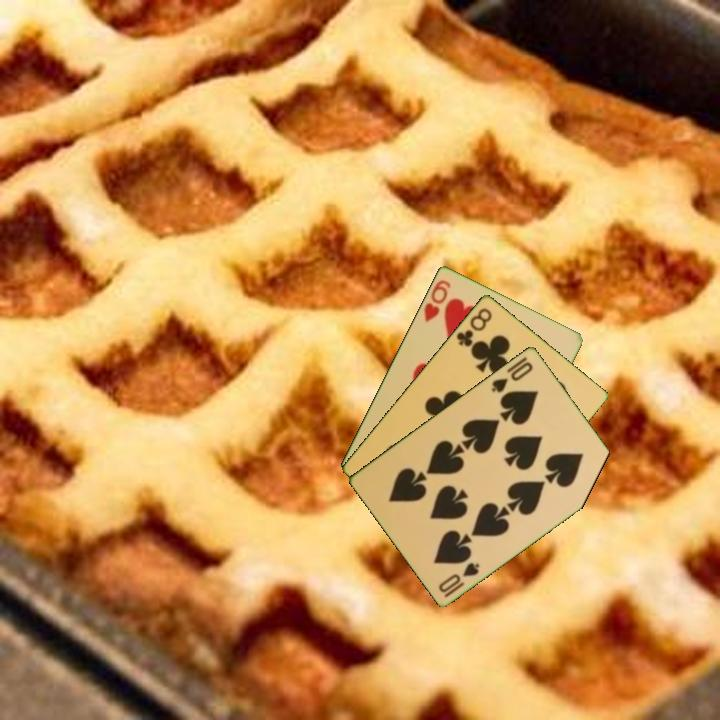10s: (435, 558, 483, 600), (487, 358, 536, 395)
6h: (420, 276, 453, 325)
8c: (453, 304, 495, 349)
